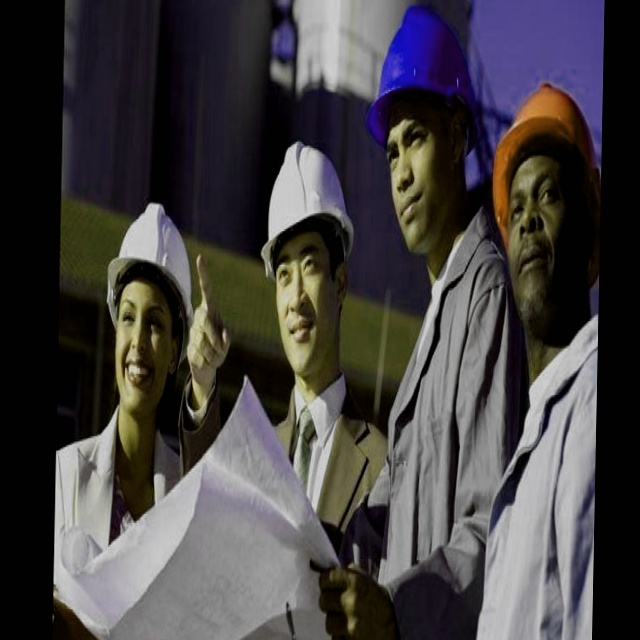Con_Casco: (259, 137, 357, 377), (104, 199, 195, 418)
